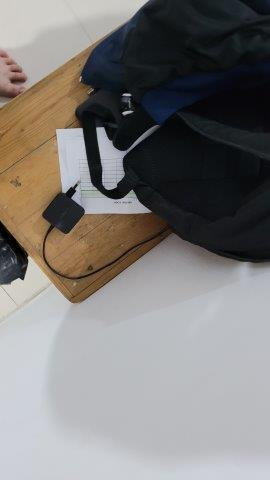kertas: (57, 125, 150, 213)
